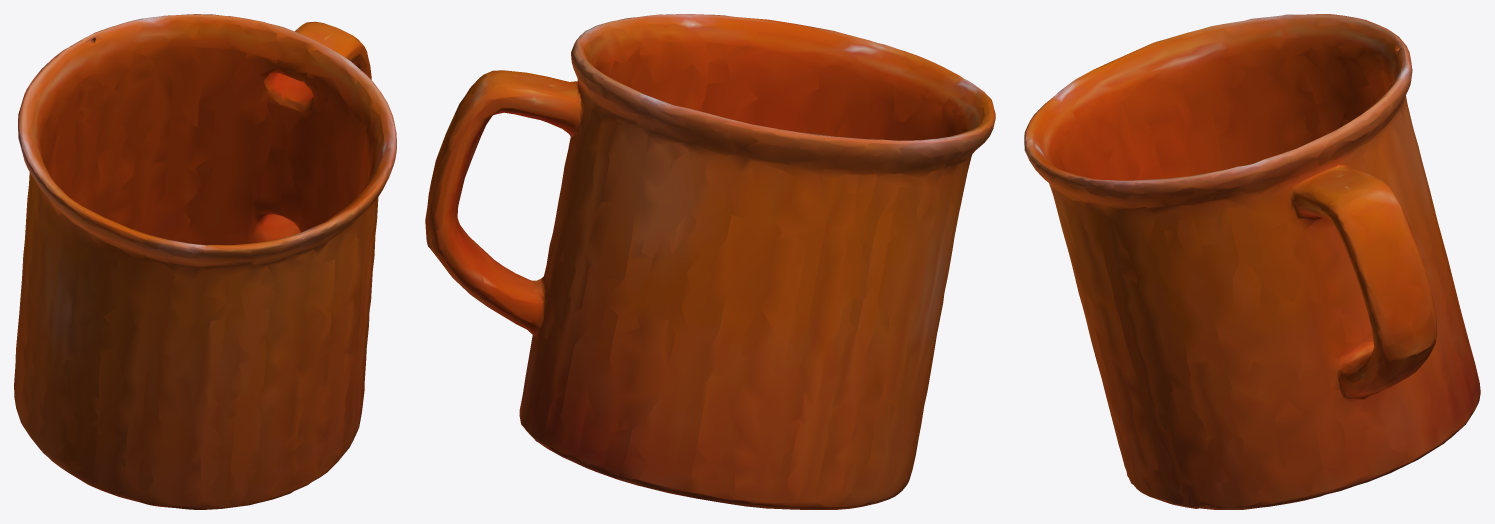
The model's file is 0010_mask_011_orange_cup.glb.
3 renders of one model, left to right at view 1: azimuth 30°, elevation 25°; view 2: azimuth 150°, elevation 25°; view 3: azimuth 270°, elevation 25°, orthographic. The views are drawn at different scales.
Visible parts, largest first — view 1: mask_011_object; view 2: mask_011_object; view 3: mask_011_object.
Part boxes in pixels (x1,y1,x2,y2): mask_011_object: (14,14,396,509); mask_011_object: (425,14,995,509); mask_011_object: (1024,14,1480,509).
Size of the model in its own units: 0.1753 by 0.1605 by 0.1638.
